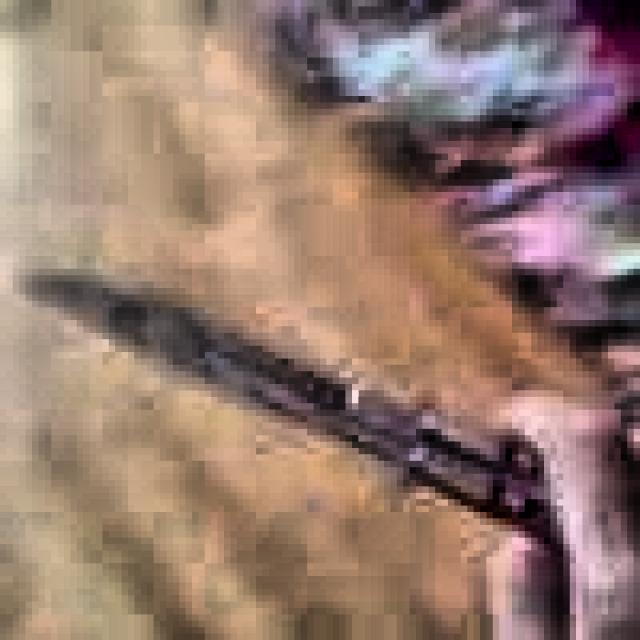knife: (31, 268, 566, 552)
